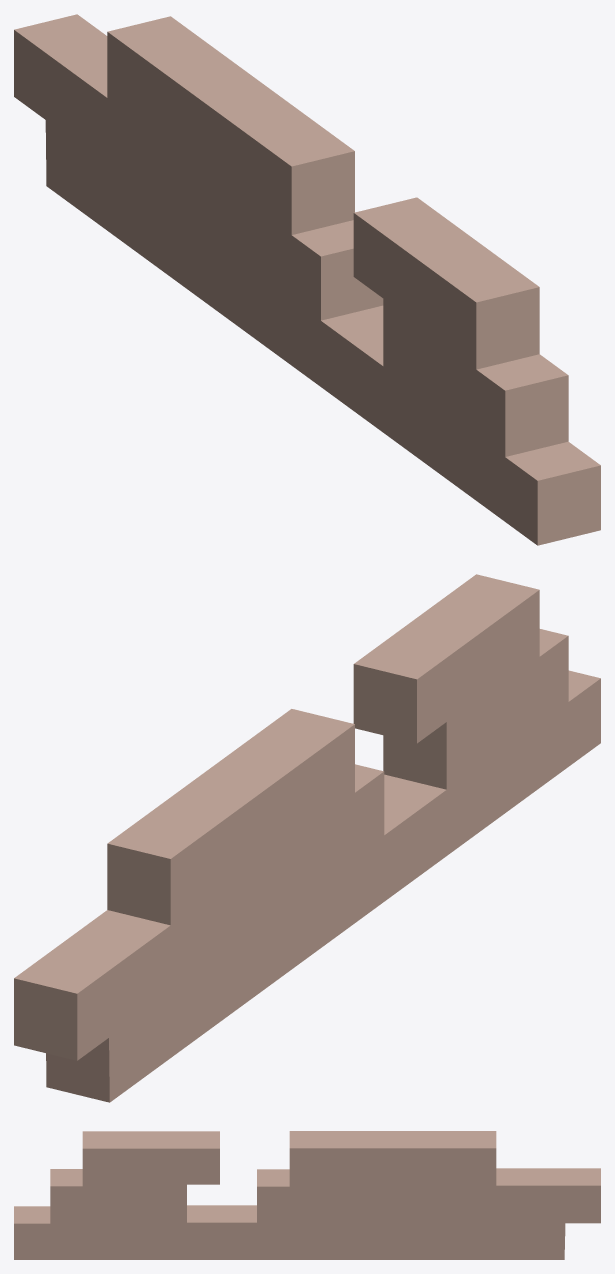
The model's file is murek_3.2.obj.
3 renders of one model, top to bottom at view 1: azimuth 30°, elevation 25°; view 2: azimuth 150°, elevation 25°; view 3: azimuth 270°, elevation 25°, orthographic. The views are drawn at different scales.
Visible parts, largest first — view 1: Vert.003; view 2: Vert.003; view 3: Vert.003.
Boxes of the visible parts, left/top/right/bottom form: Vert.003: left=14, top=14, right=600, bottom=545; Vert.003: left=14, top=574, right=600, bottom=1102; Vert.003: left=14, top=1131, right=600, bottom=1259.
Size of the model in its own units: 2.1 by 6.31 by 30.08.
